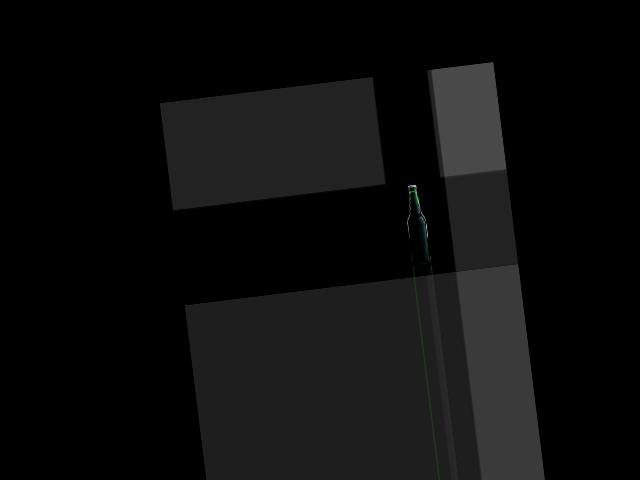beer: (402, 183, 432, 264)
